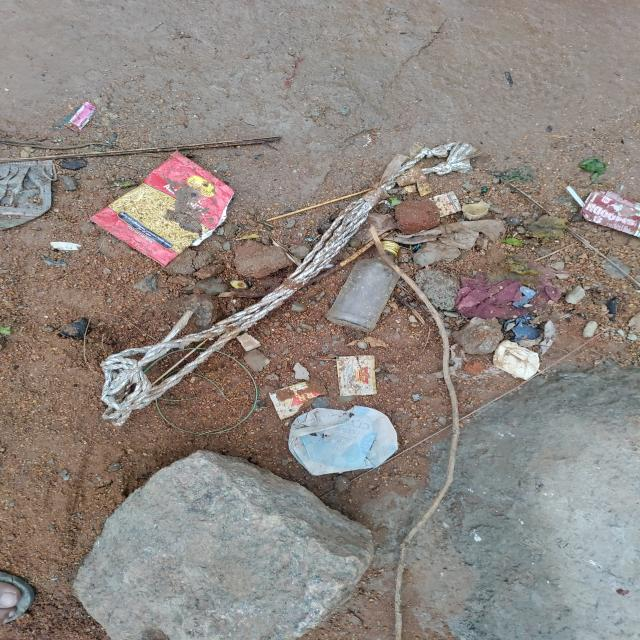paper: (287, 412, 399, 472), (558, 180, 640, 238), (483, 338, 557, 384)
plastic: (82, 152, 240, 268), (330, 354, 387, 398), (260, 382, 326, 416)
